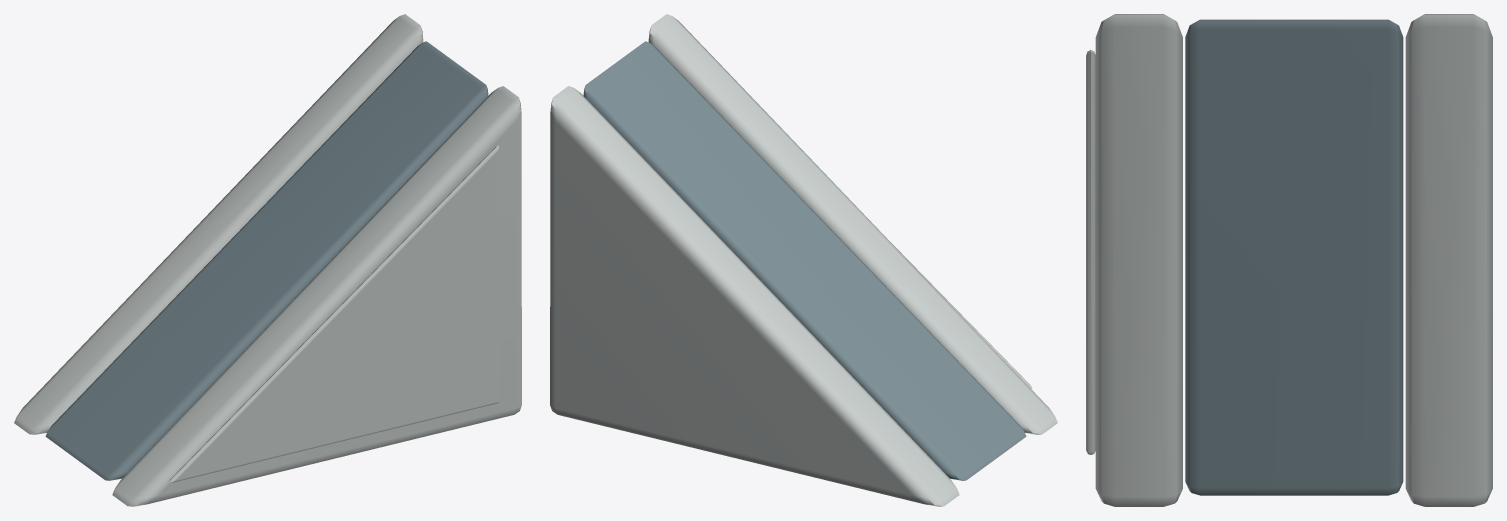
Rendered from sandwich.glb.
3 views of the same model, side by side, from view 1: azimuth 30°, elevation 25°; view 2: azimuth 150°, elevation 25°; view 3: azimuth 270°, elevation 25° (orthographic). The views are drawn at different scales.
Parts seen in each view (by area): view 1: filling, bread_face, triangular_bread.001, triangular_bread; view 2: triangular_bread, filling, triangular_bread.001; view 3: filling, triangular_bread.001, triangular_bread, bread_face.
Boxes of the visible parts, bbox=[...] form: filling: bbox=[45, 41, 488, 480]; bread_face: bbox=[168, 145, 499, 483]; triangular_bread.001: bbox=[112, 86, 521, 506]; triangular_bread: bbox=[14, 14, 423, 434]; triangular_bread: bbox=[550, 86, 959, 506]; filling: bbox=[583, 41, 1026, 480]; triangular_bread.001: bbox=[648, 14, 1057, 434]; filling: bbox=[1185, 19, 1403, 495]; triangular_bread.001: bbox=[1095, 14, 1182, 506]; triangular_bread: bbox=[1405, 14, 1492, 506]; bread_face: bbox=[1086, 50, 1095, 454].
Size of the model in its own units: 0.1479 by 0.1135 by 0.084.
